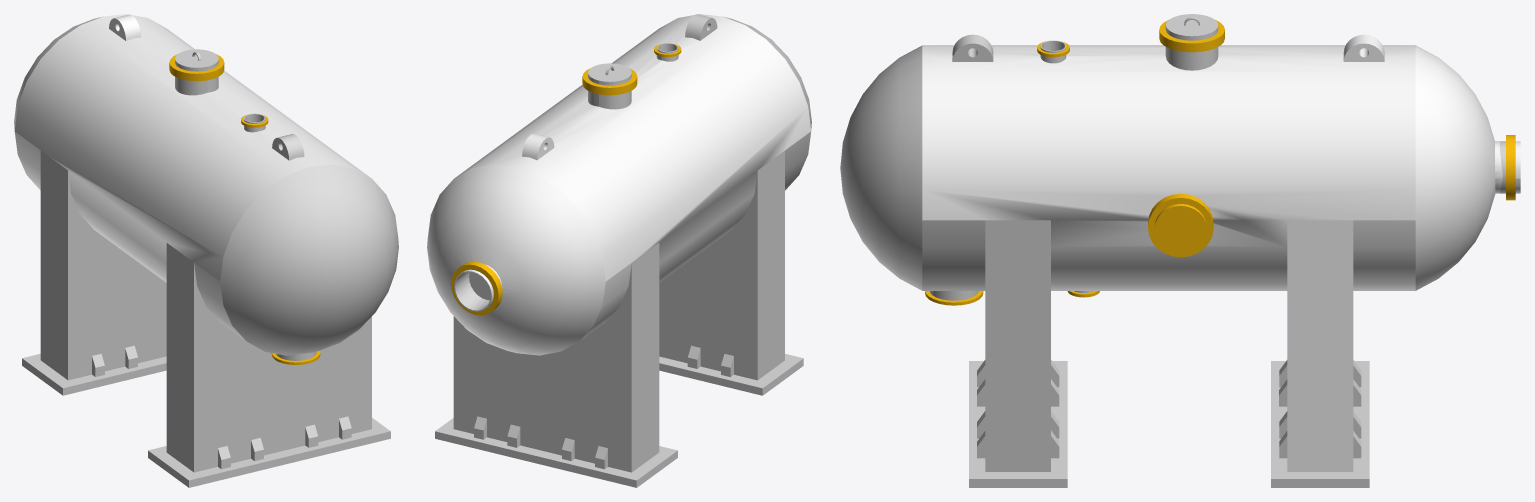
Rendered from СИПАРАТАР КРАСИВЫЙ ОЧЭН (1).fbx.
3 renders of one model, left to right at view 1: azimuth 30°, elevation 25°; view 2: azimuth 150°, elevation 25°; view 3: azimuth 270°, elevation 25°, orthographic. The views are drawn at different scales.
Visible parts, largest first — view 1: Model, Group1, Group3, Group2; view 2: Model, Group7, Group3, Group1, Group2; view 3: Model, Group6, Group1, Group3.
Part boxes in pixels (box(x1,y1,x2,y2)): Model: box(14, 14, 398, 487); Group1: box(109, 14, 141, 41); Group3: box(272, 134, 304, 160); Group2: box(169, 54, 224, 77); Model: box(427, 14, 811, 487); Group7: box(451, 263, 500, 315); Group3: box(685, 14, 717, 40); Group1: box(522, 133, 554, 160); Group2: box(582, 68, 637, 91); Model: box(840, 14, 1520, 487); Group6: box(1148, 195, 1213, 257); Group1: box(1343, 34, 1384, 61); Group3: box(952, 34, 993, 61).
Size of the model in its own units: 1.71 by 2.76 by 4.14.
